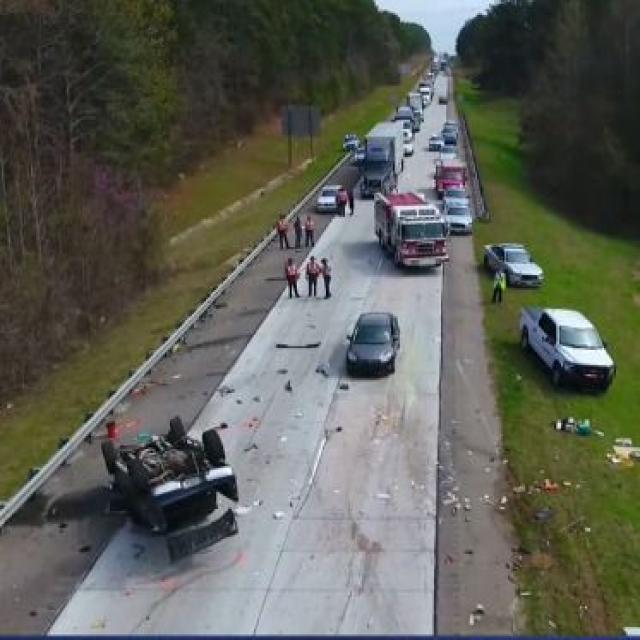traffic_incident: (63, 357, 274, 601)
